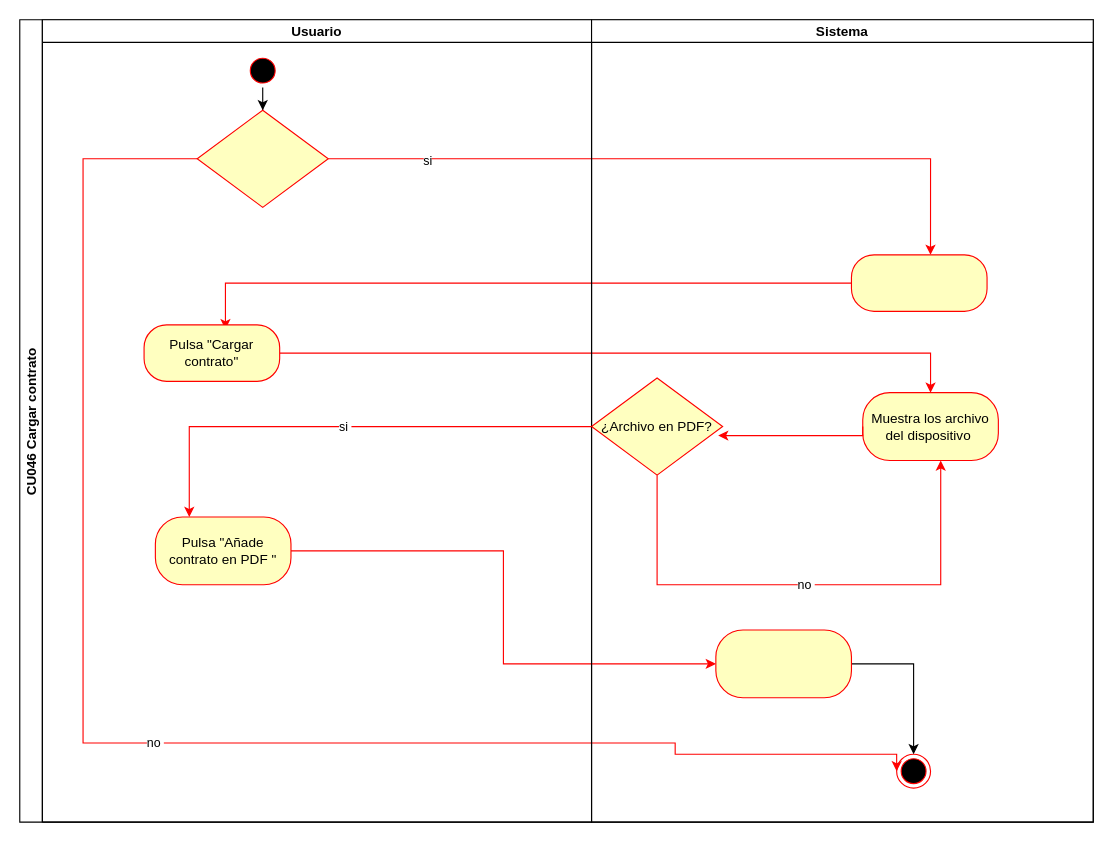
Some shapes in this 1113 by 842 pixel diagram are drawn without their labels. The shapes that lost their labels are listed below. From the top down, each one's centre as x and y in pixels, then its label:
pixel 262 158: Pulsar el aparatado de "Contrato"
pixel 918 282: Lo redirige al apartado
pixel 783 663: Cagar el archivo en el sistema.
